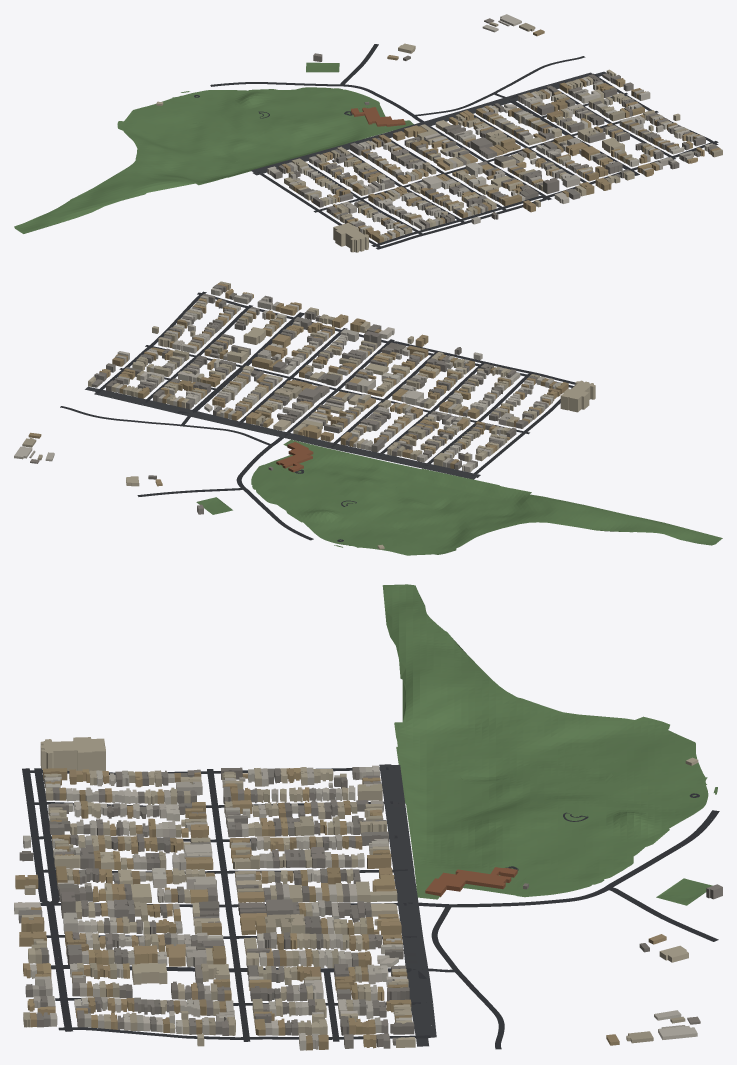
Rendered from tile_6_14.glb.
3 views of the same model, one above another, from view 1: azimuth 30°, elevation 25°; view 2: azimuth 150°, elevation 25°; view 3: azimuth 270°, elevation 25° (orthographic). The views are drawn at different scales.
Parts seen in each view (by area): view 1: bld_6_14, grn_6_14, road_6_14; view 2: bld_6_14, grn_6_14, road_6_14; view 3: bld_6_14, grn_6_14, road_6_14.
Boxes of the visible parts, left/top/right/bottom form: bld_6_14: left=156, top=14, right=722, bottom=252; grn_6_14: left=14, top=62, right=413, bottom=233; road_6_14: left=194, top=44, right=718, bottom=249; bld_6_14: left=14, top=281, right=595, bottom=549; grn_6_14: left=196, top=439, right=722, bottom=555; road_6_14: left=60, top=291, right=575, bottom=541; bld_6_14: left=14, top=737, right=722, bottom=1050; grn_6_14: left=382, top=584, right=717, bottom=905; road_6_14: left=22, top=764, right=719, bottom=1049.
Bounding box in the file's own units: 1310 × 52.36 × 821.
